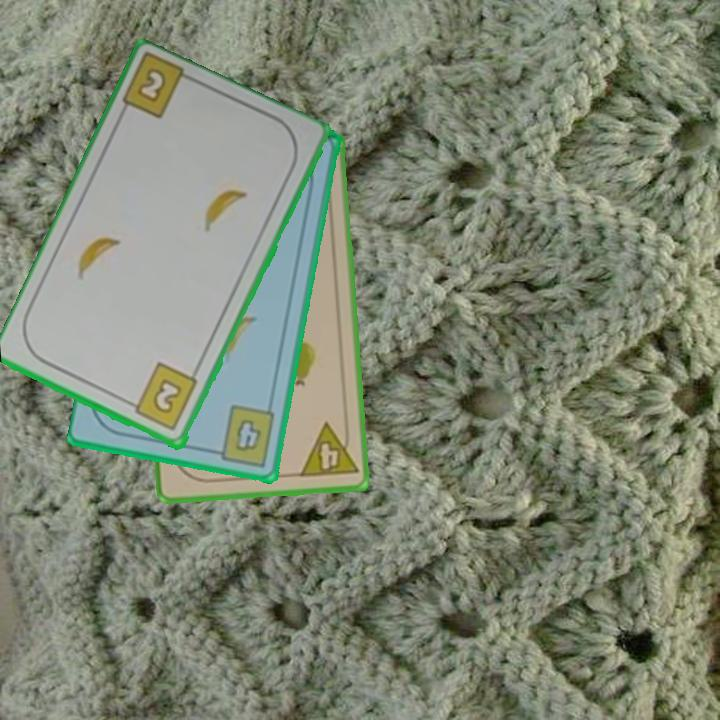2b: (124, 360, 201, 434), (133, 65, 170, 106)
4b: (208, 401, 278, 470)
4p: (296, 418, 361, 481)
